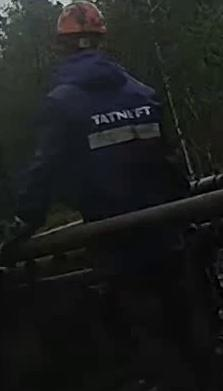gloves: (1, 210, 35, 262)
helmet: (55, 0, 107, 36)
vest: (36, 49, 191, 222)
